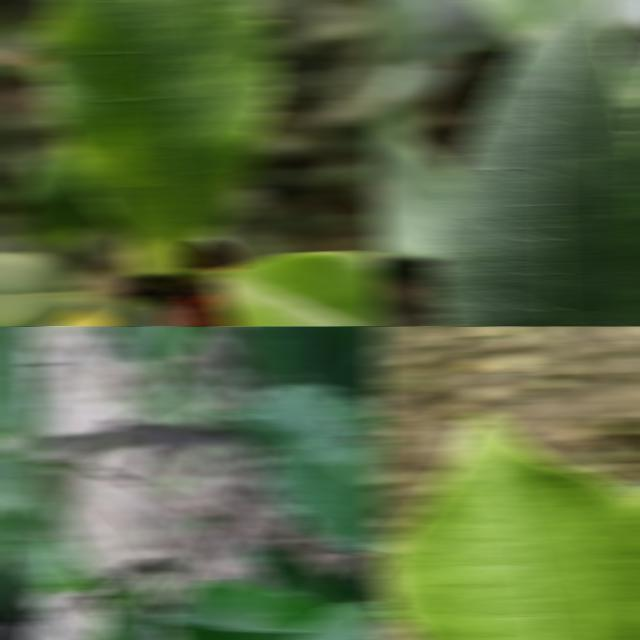Leaf: (425, 0, 640, 326), (35, 0, 281, 259), (380, 412, 640, 640), (212, 383, 384, 552), (0, 438, 107, 594), (211, 251, 384, 326), (370, 122, 460, 259), (157, 578, 334, 640), (11, 144, 108, 249), (269, 326, 370, 399), (0, 251, 88, 326), (243, 539, 337, 606), (370, 0, 433, 90), (286, 596, 384, 640), (0, 326, 39, 436), (237, 326, 300, 389), (347, 326, 384, 405), (111, 584, 162, 640), (325, 557, 384, 605), (99, 326, 157, 361)
